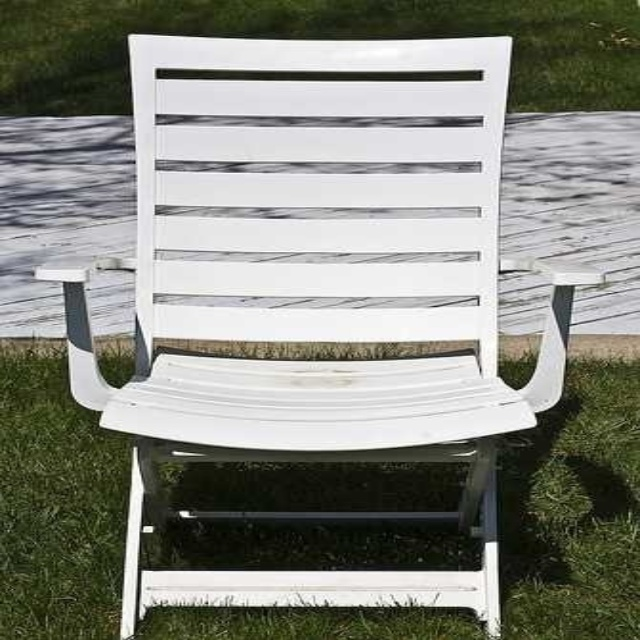obstacle: (36, 35, 602, 637)
